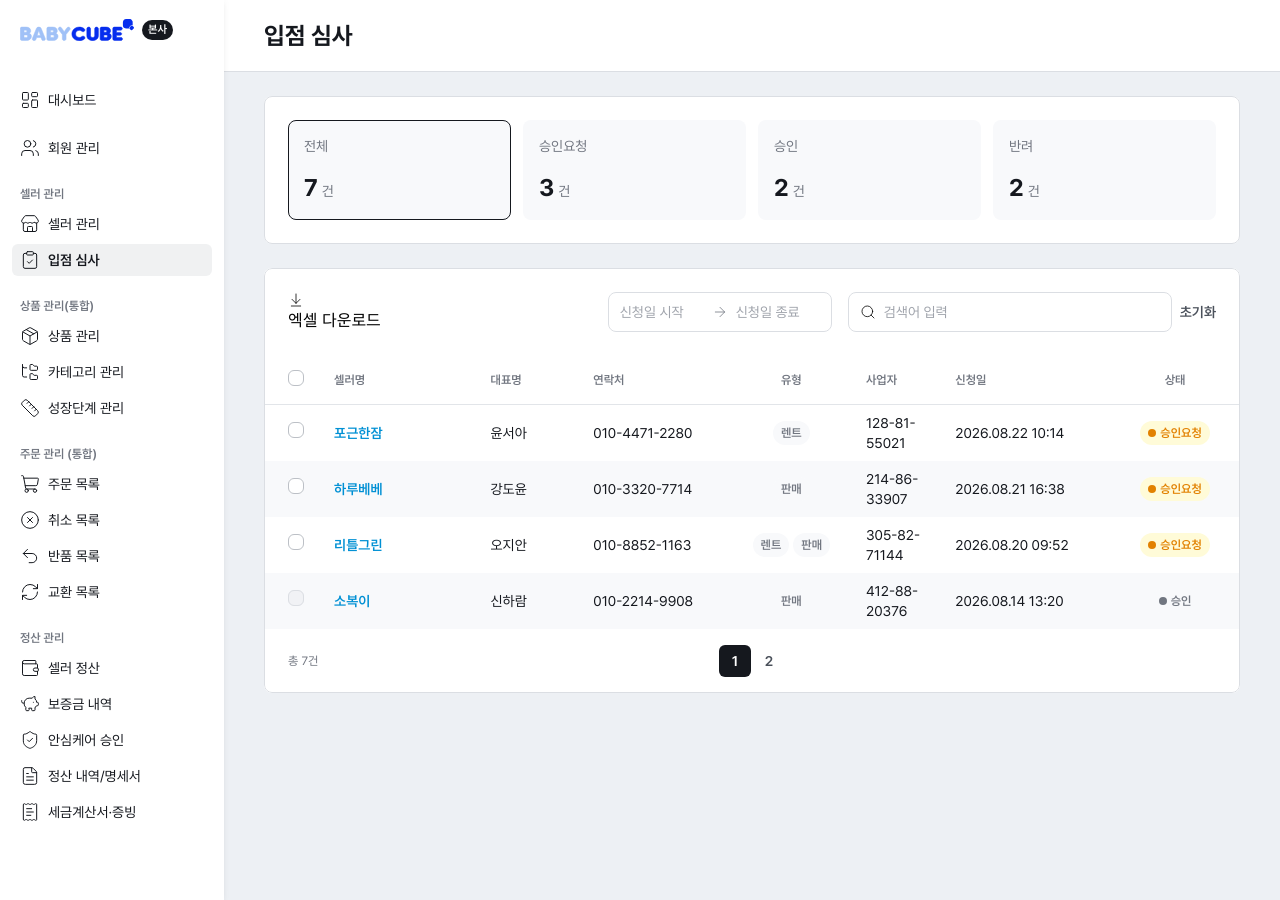
it: SellerReviewPage (S04 입점 심사) › 승인 게이트 › 신청자가 적어 낸 수수료율·위생인증을 초깃값으로 연다
The width and height of the screenshot is (1280, 900).
Click the checkbox named "포근한잠 선택": (296, 430) left=288, top=422, right=304, bottom=438
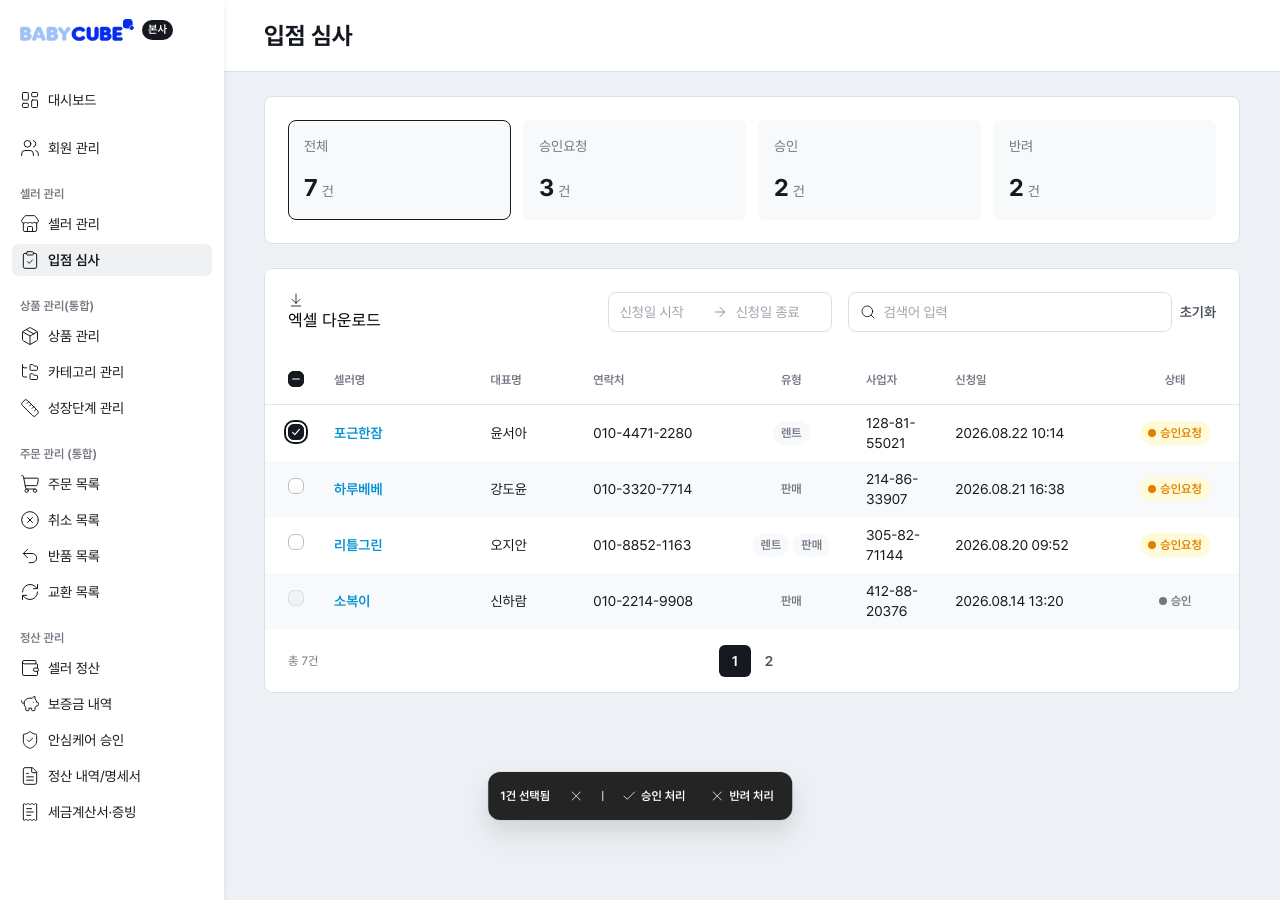
Click the button "승인 처리": (653, 796) left=615, top=782, right=691, bottom=810
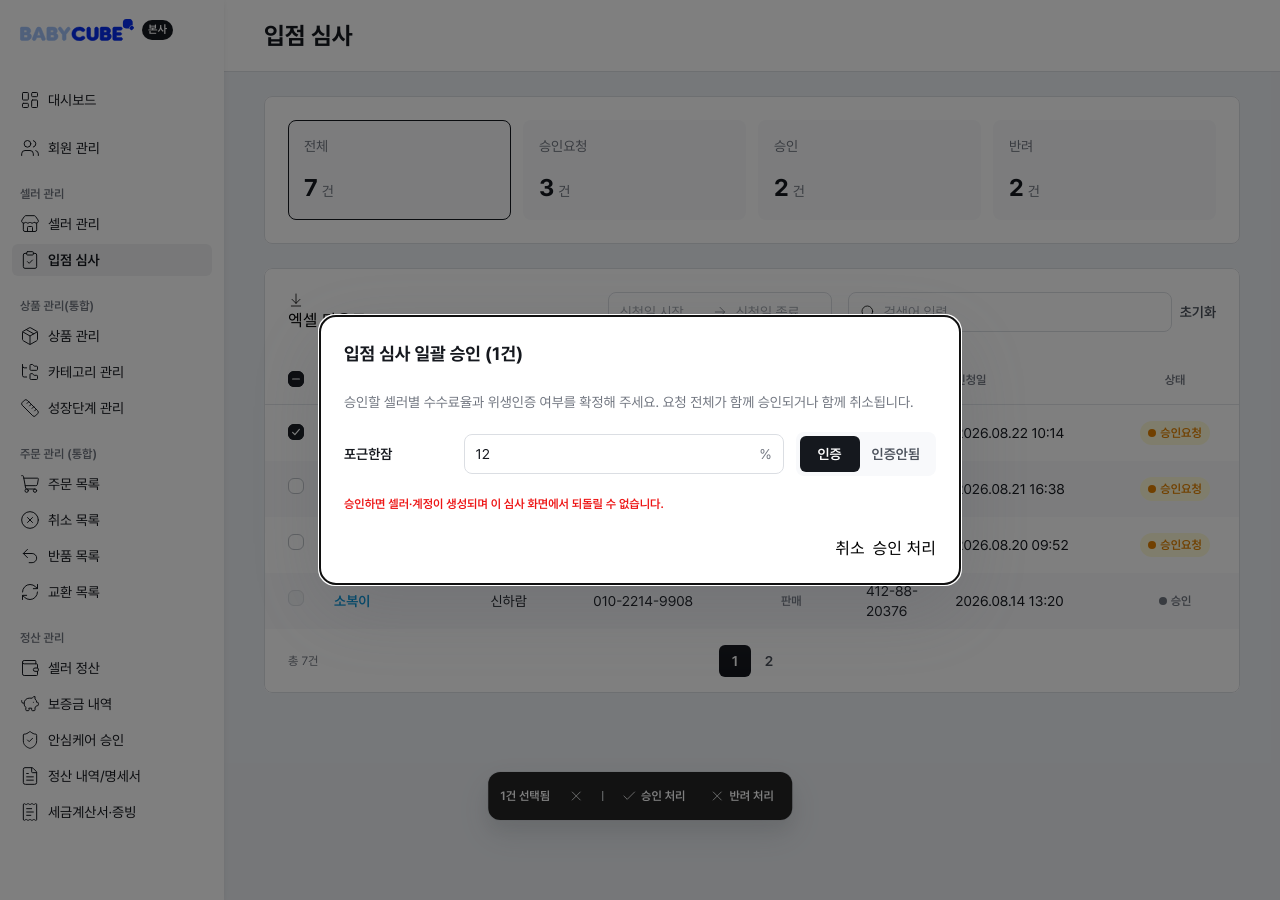
expect the field named "포근한잠 수수료율" holds "12": met, box left=476, top=442, right=752, bottom=466
expect the radio button labelled "인증" is checked: met, box left=800, top=436, right=860, bottom=472
expect the text "승인할 셀러별 수수료율과 위생인증 여부를 확정해 주세요. 요청 전체가 함께 승인되거나 함께 취소됩니다." is shown: met, box left=344, top=392, right=936, bottom=412
